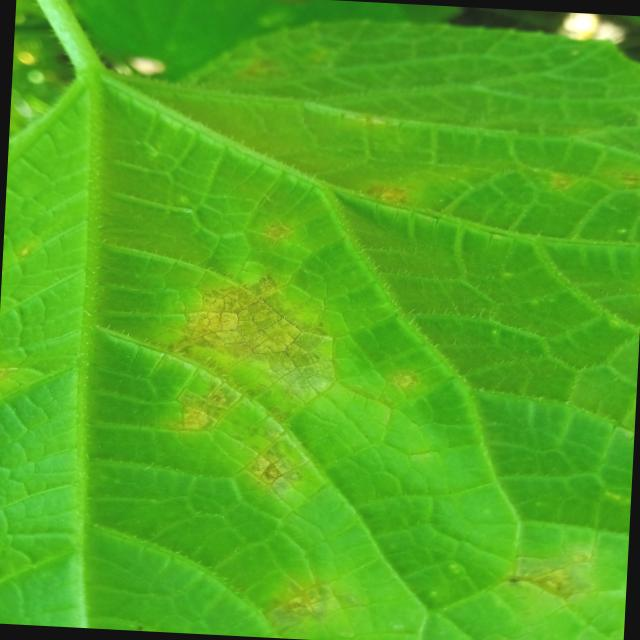cucumber_downy: (1, 25, 640, 640)
